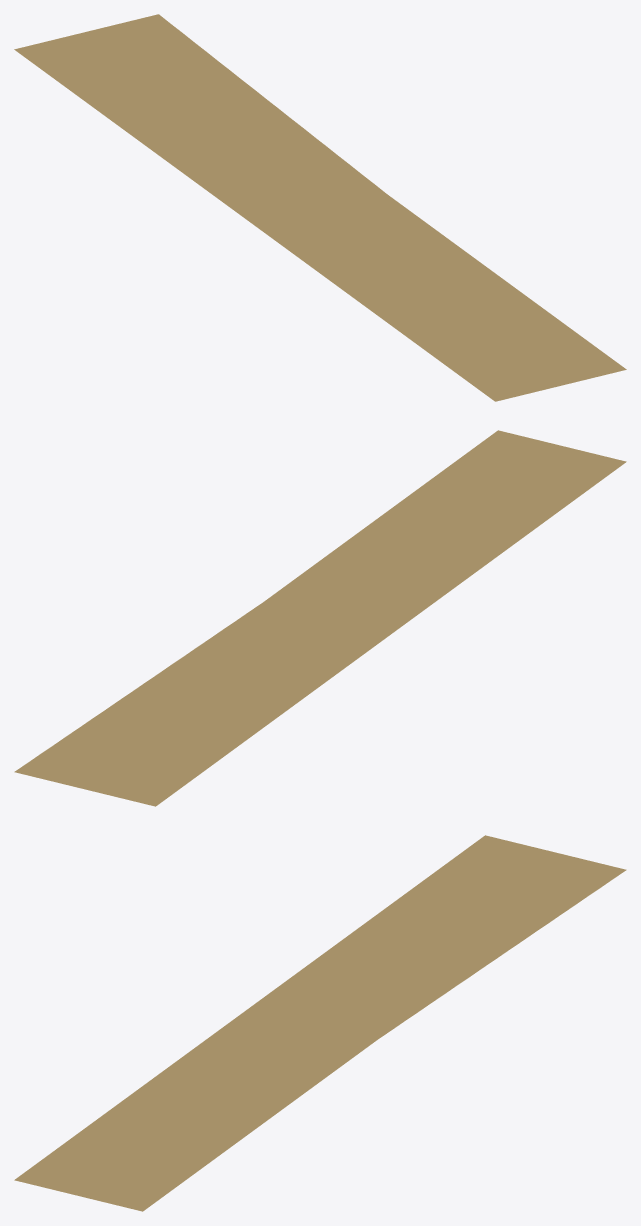
File: eastroad.glb
The picture shows the model from 3 angles, top to bottom: view 1: azimuth 30°, elevation 25°; view 2: azimuth 150°, elevation 25°; view 3: azimuth 330°, elevation 25°; orthographic projection. The views are drawn at different scales.
Visible parts, largest first — view 1: eastroad; view 2: eastroad; view 3: eastroad.
Boxes of the visible parts, bbox=[...] form: eastroad: bbox=[14, 14, 626, 401]; eastroad: bbox=[14, 430, 626, 806]; eastroad: bbox=[14, 835, 626, 1211].
Size of the model in its own units: 6.6 by 0 by 38.
